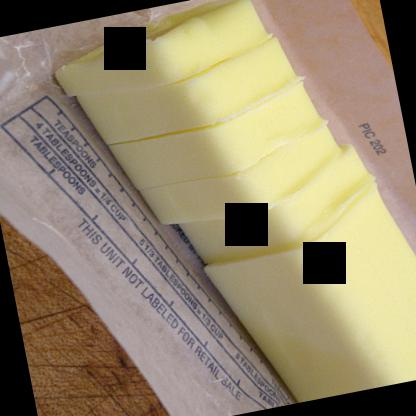butter: (54, 0, 369, 274), (193, 183, 415, 415)
